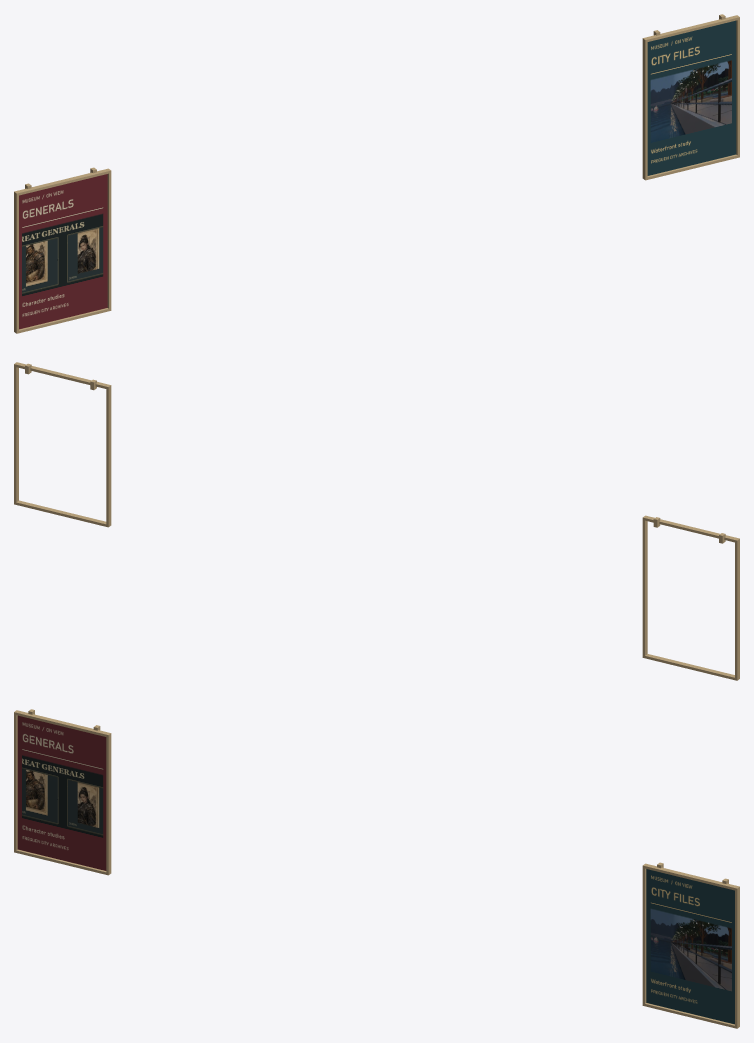
The model's file is museum-window-cases.glb.
3 renders of one model, top to bottom at view 1: azimuth 30°, elevation 25°; view 2: azimuth 150°, elevation 25°; view 3: azimuth 330°, elevation 25°, orthographic.
Parts seen in each view (by area): view 1: CITY FILES, GENERALS, CITY FILES stile -1, GENERALS stile -1, GENERALS stile 1, CITY FILES stile 1; view 2: CITY FILES stile -1, GENERALS stile 1, GENERALS stile -1, CITY FILES stile 1, CITY FILES rail -1; view 3: GENERALS, CITY FILES, GENERALS stile 1, CITY FILES stile 1, CITY FILES stile -1, GENERALS stile -1.
Part boxes in pixels (left/top/right/bottom): CITY FILES: left=647, top=20, right=736, bottom=175; GENERALS: left=19, top=174, right=107, bottom=329; CITY FILES stile -1: left=642, top=37, right=647, bottom=180; GENERALS stile -1: left=14, top=191, right=18, bottom=333; GENERALS stile 1: left=106, top=168, right=111, bottom=311; CITY FILES stile 1: left=735, top=15, right=739, bottom=157; CITY FILES stile -1: left=106, top=384, right=111, bottom=527; GENERALS stile 1: left=642, top=515, right=647, bottom=658; GENERALS stile -1: left=735, top=538, right=739, bottom=680; CITY FILES stile 1: left=14, top=362, right=18, bottom=504; CITY FILES rail -1: left=16, top=500, right=106, bottom=526; GENERALS: left=17, top=715, right=106, bottom=870; CITY FILES: left=646, top=869, right=734, bottom=1024; GENERALS stile 1: left=106, top=732, right=111, bottom=875; CITY FILES stile 1: left=735, top=886, right=739, bottom=1028; CITY FILES stile -1: left=642, top=863, right=647, bottom=1006; GENERALS stile -1: left=14, top=710, right=18, bottom=852.
Size of the model in its own units: 10.63 by 2.01 by 0.114.
3 materials, 2 textured.
